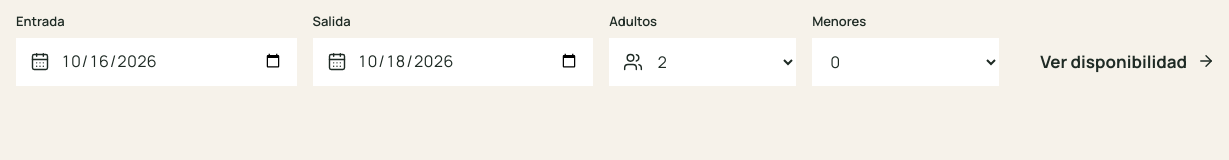
Test: <BuscadorEstadia> › al elegir una entrada posterior a la salida, propone la noche siguiente
This screenshot has width=1229, height=160.
In the date field labelled "Entrada": [156, 62] box left=16, top=38, right=297, bottom=86, type "2026-10-20"
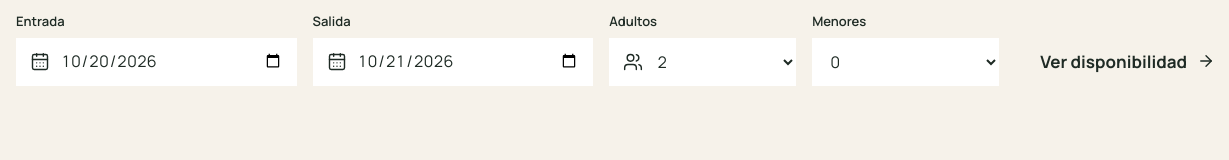
Now the date field labelled "Salida" holds "2026-10-21", box left=313, top=38, right=593, bottom=86
